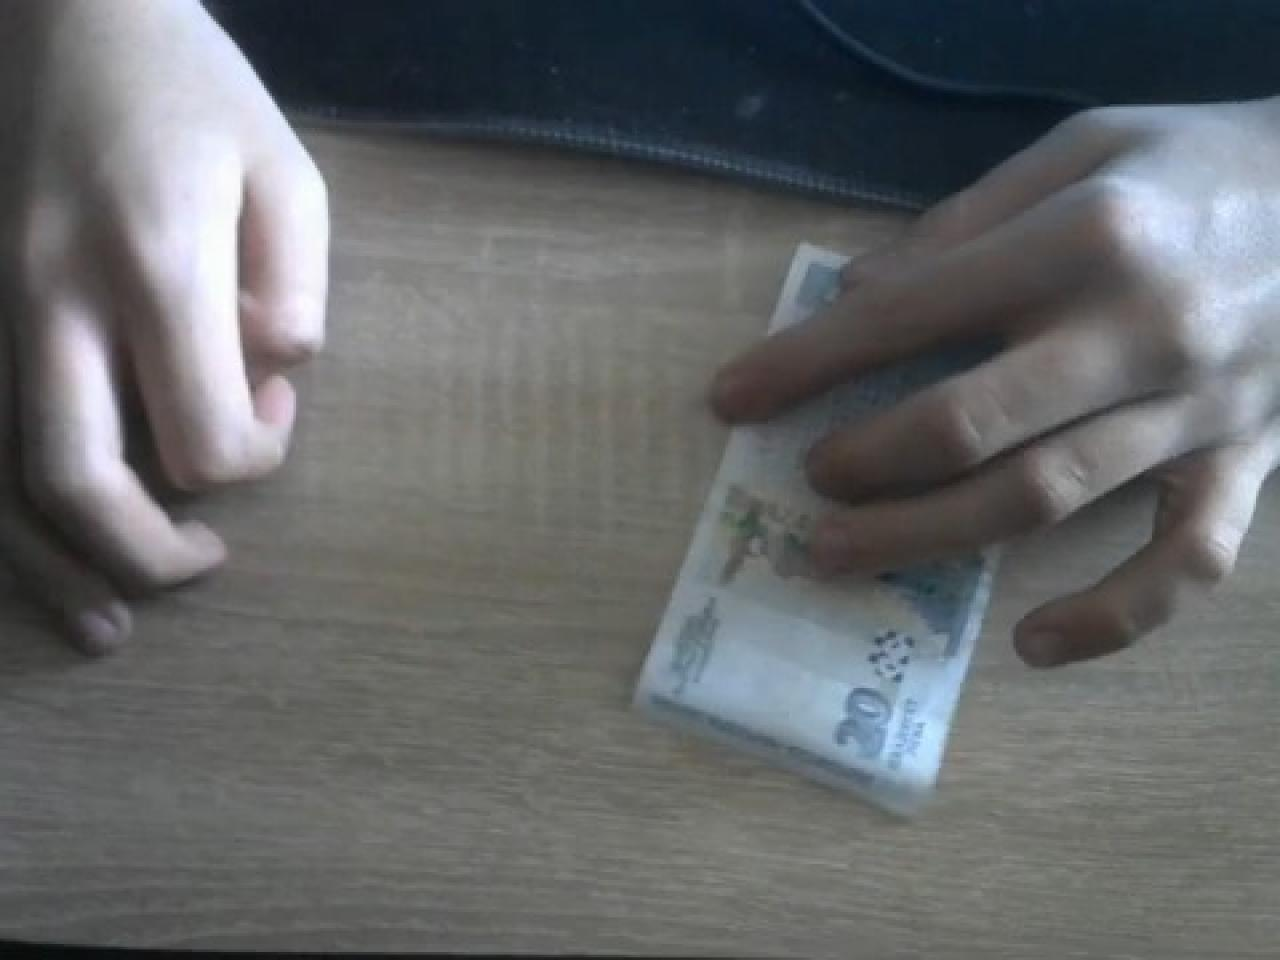20leva: (629, 240, 1003, 819)
